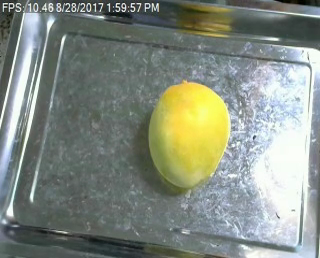Mango: (145, 72, 235, 195)
